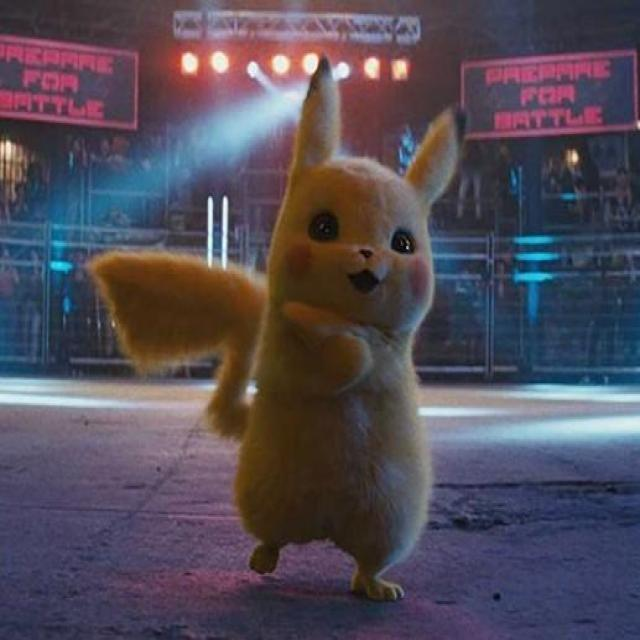pikachu: (93, 58, 466, 599)
